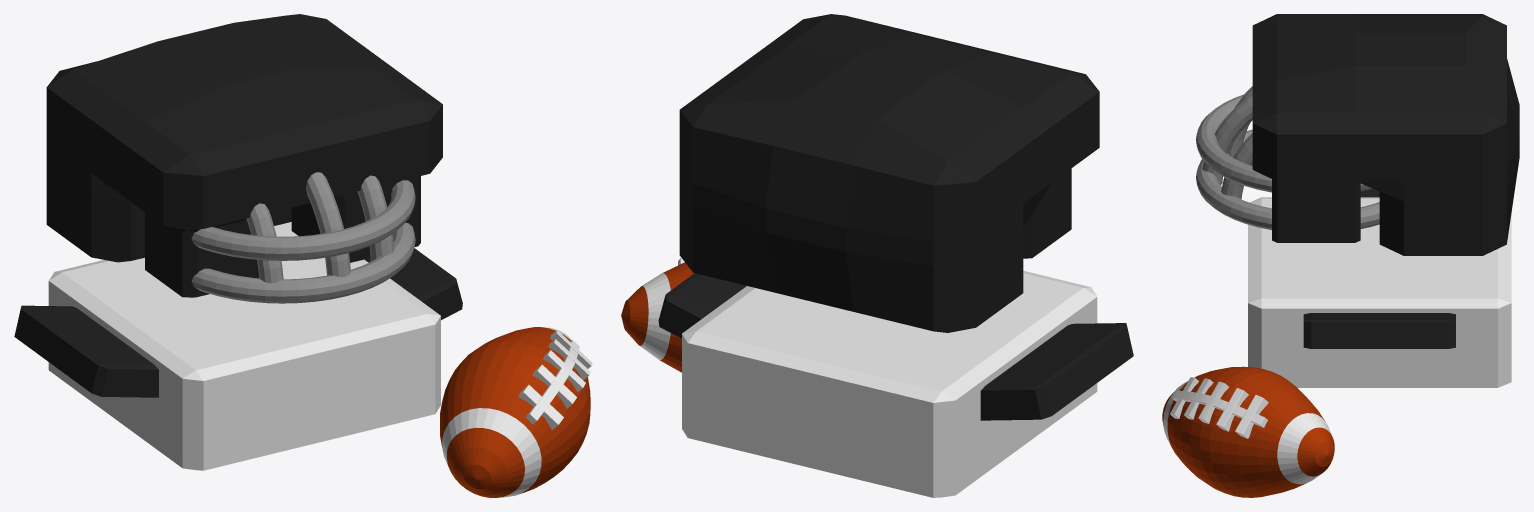
The model's file is FootballPlayer.fbx.
3 renders of one model, left to right at view 1: azimuth 30°, elevation 25°; view 2: azimuth 150°, elevation 25°; view 3: azimuth 270°, elevation 25°, orthographic. The views are drawn at different scales.
Parts seen in each view (by area): view 1: Cube, Cube.001, Cube.004, Torus.003, Cube.003, Cube.002; view 2: Cube, Cube.001, Cube.003, Cube.004, Cube.002; view 3: Cube, Cube.001, Cube.004, Torus.003, Cube.002.
Boxes of the visible parts, <box> form: Cube: <box>46,14,442,297</box>; Cube.001: <box>48,222,440,470</box>; Cube.004: <box>440,327,592,497</box>; Torus.003: <box>191,172,415,303</box>; Cube.003: <box>14,305,158,397</box>; Cube.002: <box>364,248,462,320</box>; Cube: <box>679,14,1099,332</box>; Cube.001: <box>682,270,1097,497</box>; Cube.003: <box>980,323,1133,420</box>; Cube.004: <box>621,257,694,372</box>; Cube.002: <box>658,273,746,338</box>; Cube: <box>1252,14,1519,255</box>; Cube.001: <box>1248,197,1511,387</box>; Cube.004: <box>1162,366,1334,497</box>; Torus.003: <box>1196,86,1379,229</box>; Cube.002: <box>1303,313,1455,348</box>.
Size of the model in its own units: 410 by 331 by 299.
